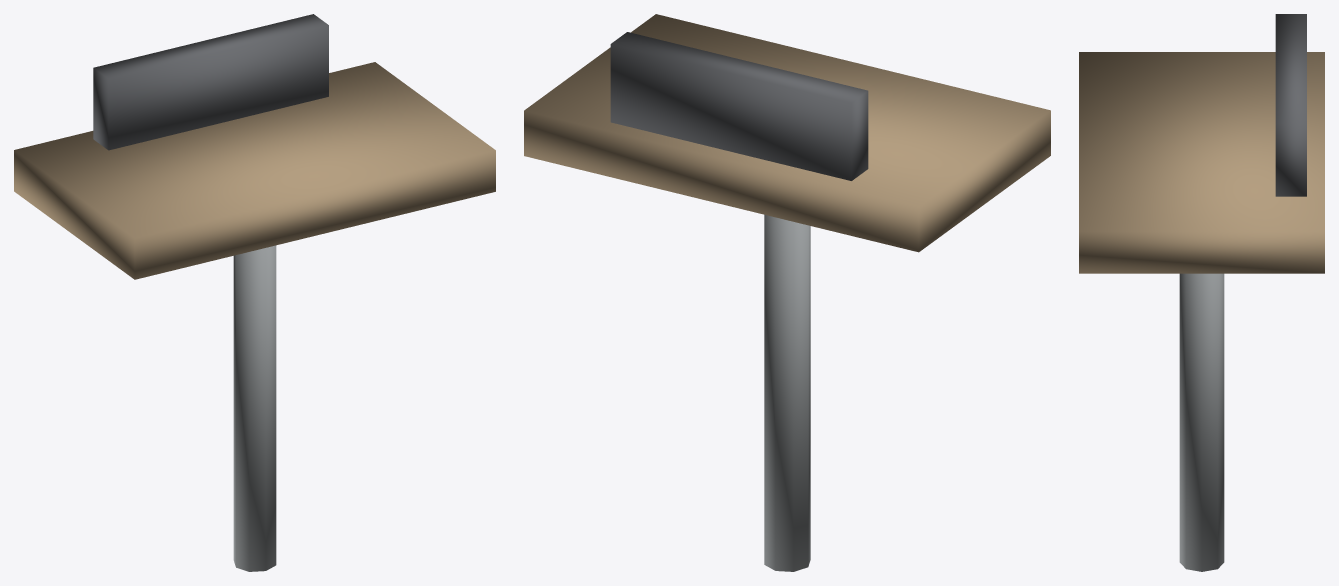
Rendered from deposit_desk__tall.glb.
3 renders of one model, left to right at view 1: azimuth 30°, elevation 25°; view 2: azimuth 150°, elevation 25°; view 3: azimuth 270°, elevation 25°, orthographic. The views are drawn at different scales.
Parts seen in each view (by area): view 1: world; view 2: world; view 3: world.
Part boxes in pixels (x1,y1,x2,y2): world: (14,14,495,571); world: (524,14,1050,571); world: (1079,14,1324,571).
Bounding box in the file's own units: 0.95 × 1.22 × 0.55.
